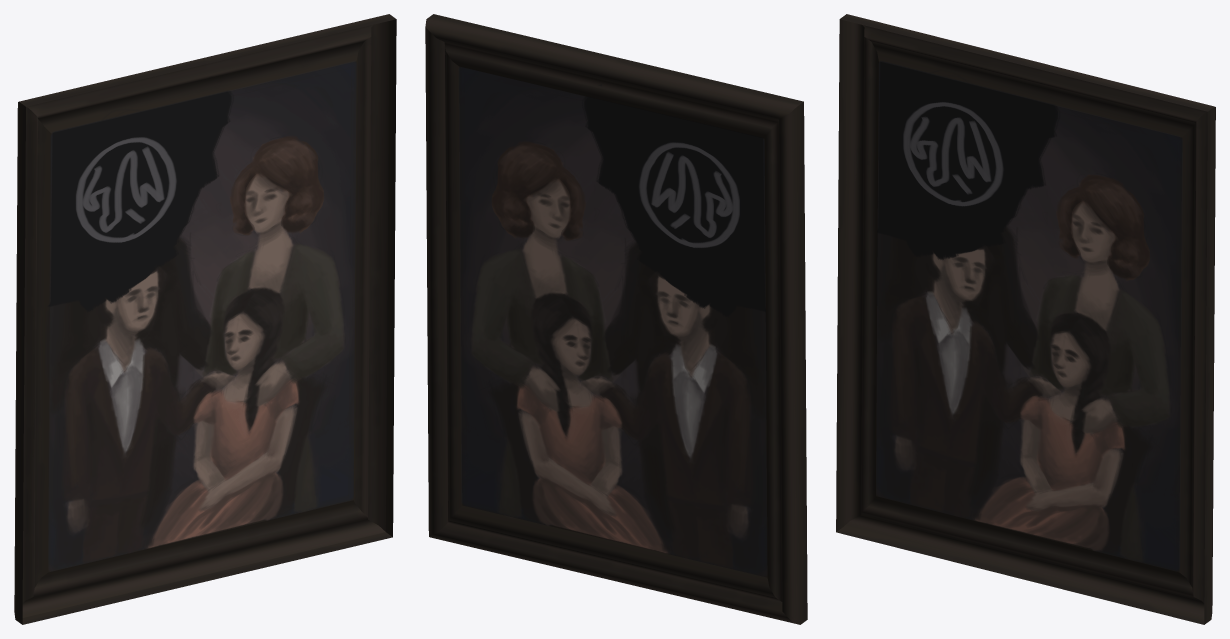
Rendered from portraitS.fbx.
3 views of the same model, side by side, from view 1: azimuth 30°, elevation 25°; view 2: azimuth 150°, elevation 25°; view 3: azimuth 330°, elevation 25° (orthographic).
Parts seen in each view (by area): view 1: portrait_fallen; view 2: portrait_fallen; view 3: portrait_fallen.
Boxes of the visible parts, x1,y1,x2,y2 form: portrait_fallen: (14,14,396,624); portrait_fallen: (425,14,807,624); portrait_fallen: (836,14,1215,624).
Size of the model in its own units: 24.26 by 32.23 by 1.27.
